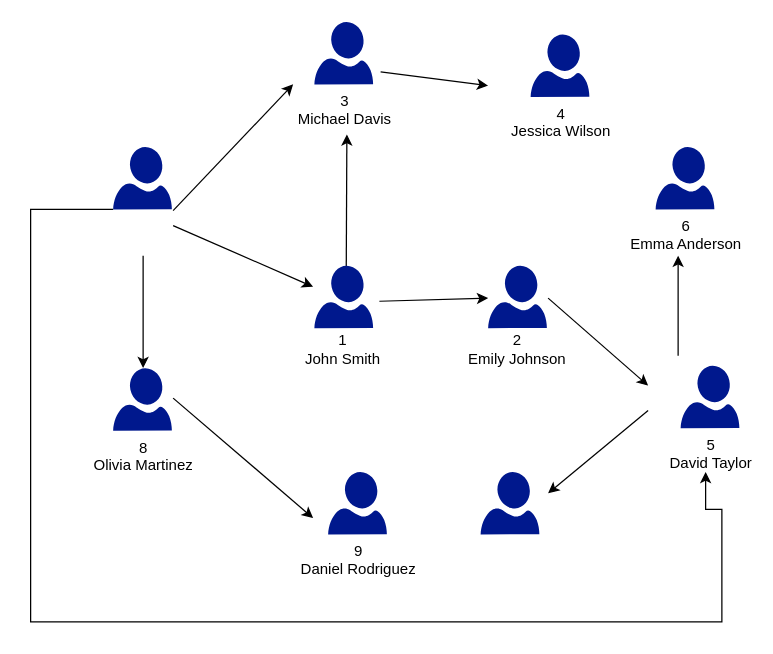
This 773x654 diagram has some shape labels left out. The shapes that lost their labels are listed below. From the top down, each one's centre as x and y in pixels, then its label:
(x=141, y=177): 10 Sophia Lee
(x=509, y=502): 7 Christopher Clark
